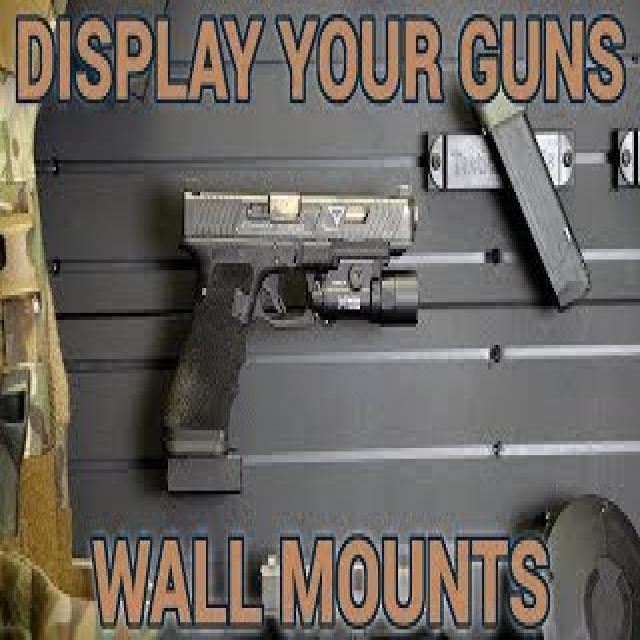HandGun: (162, 192, 420, 494)
